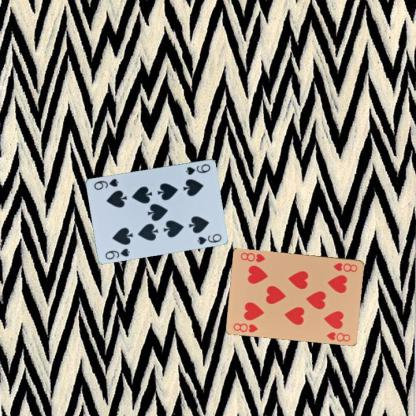8h: (230, 320, 259, 334), (331, 260, 358, 273)
9s: (103, 245, 131, 260), (184, 161, 211, 176)
